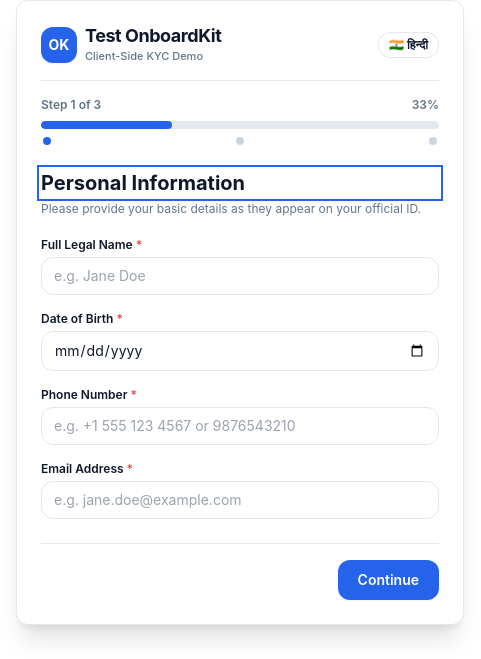
it: Phase 2: Flow and Step Navigation › preserves form state and advances to next step when valid
Fill valid details
Type "Alex Morgan" into the field labelled "Full Legal Name *" at (240, 276), box x1=41 y1=257 x2=439 y2=295
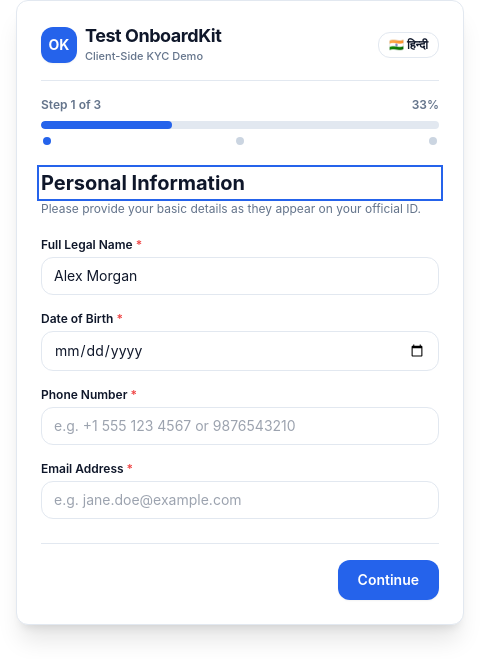
Type "1995-06-15" into the date field labelled "Date of Birth *" at (240, 351), box x1=41 y1=331 x2=439 y2=371
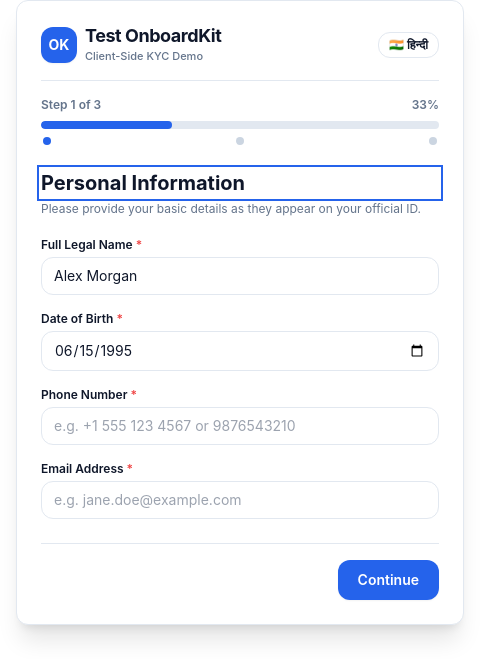
Type "+1 555 123 4567" into the field labelled "Phone Number *" at (240, 426), box x1=41 y1=407 x2=439 y2=445
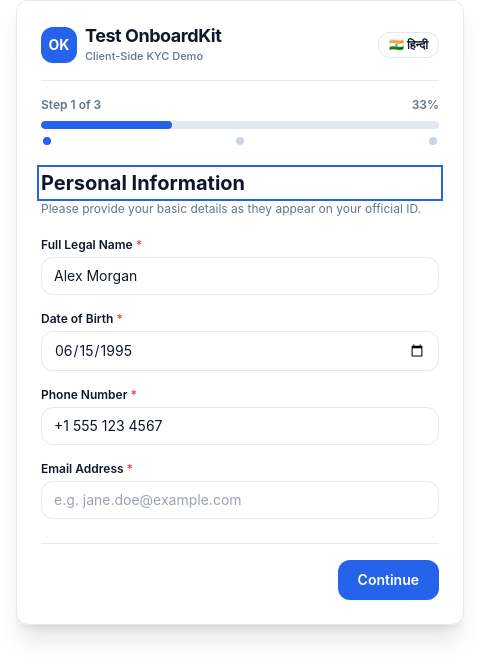
Type "alex.morgan@example.com" into the field labelled "Email Address *" at (240, 500), box x1=41 y1=481 x2=439 y2=519
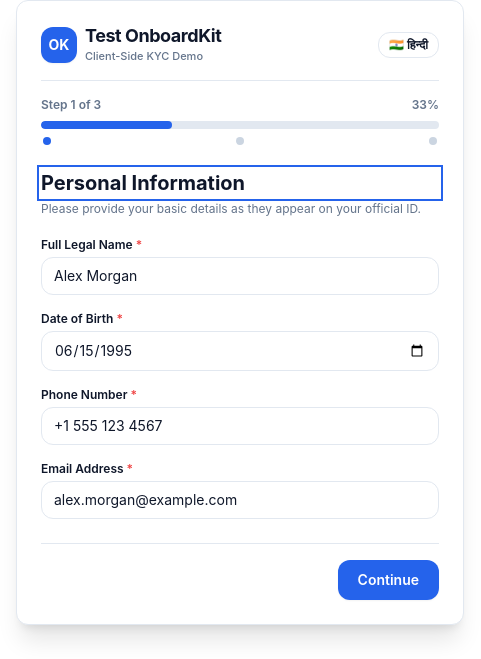
Click the button "Continue" at (388, 580), box x1=338 y1=560 x2=439 y2=600
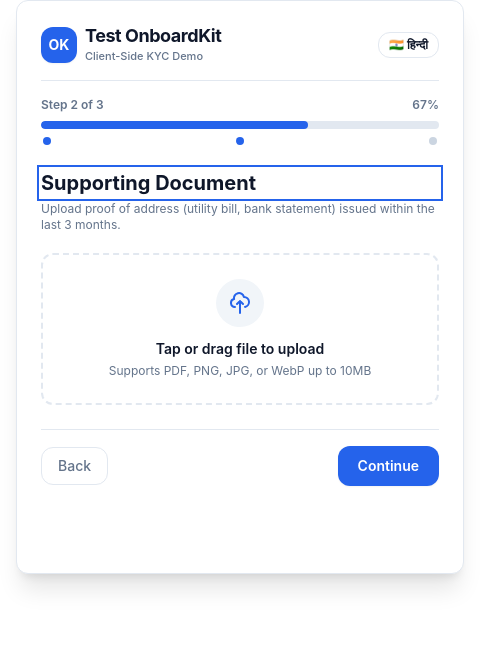
Expected: the heading "Supporting Document" is shown, x1=41 y1=171 x2=256 y2=195
Expected: the text "Step 2 of 3" is shown, x1=41 y1=97 x2=104 y2=113
Click back button
Click the button "Back" at (75, 466), box x1=41 y1=447 x2=108 y2=485
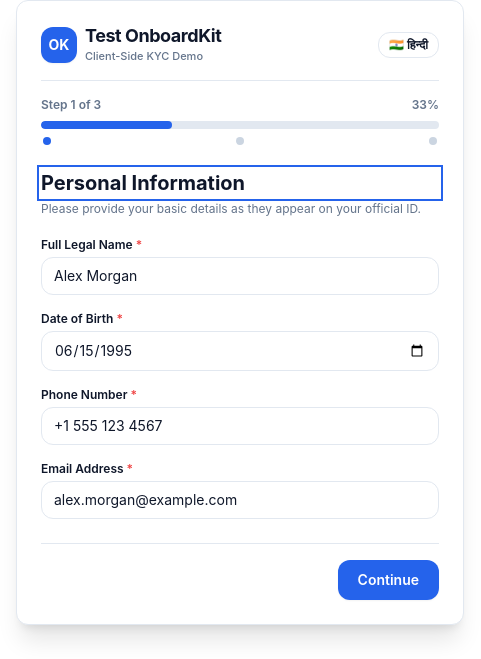
Expected: the field showing "Alex Morgan" is shown, x1=41 y1=257 x2=439 y2=295
Expected: the field showing "alex.morgan@example.com" is shown, x1=41 y1=481 x2=439 y2=519
